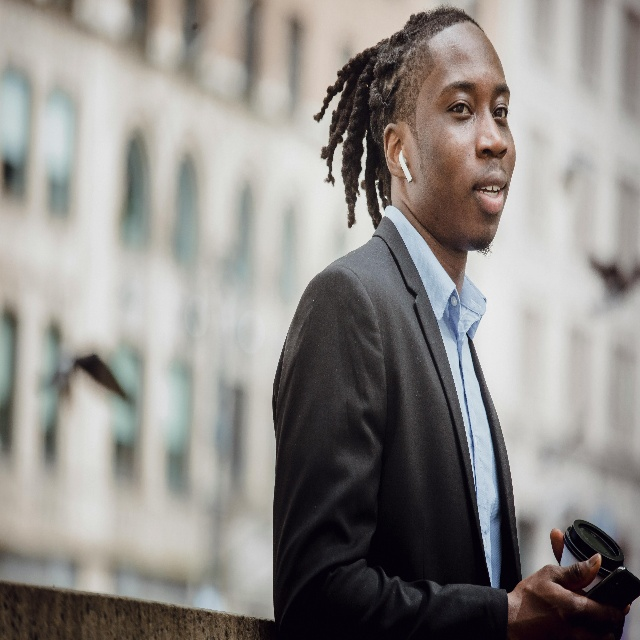Sin_guantes: (516, 552, 628, 640)
